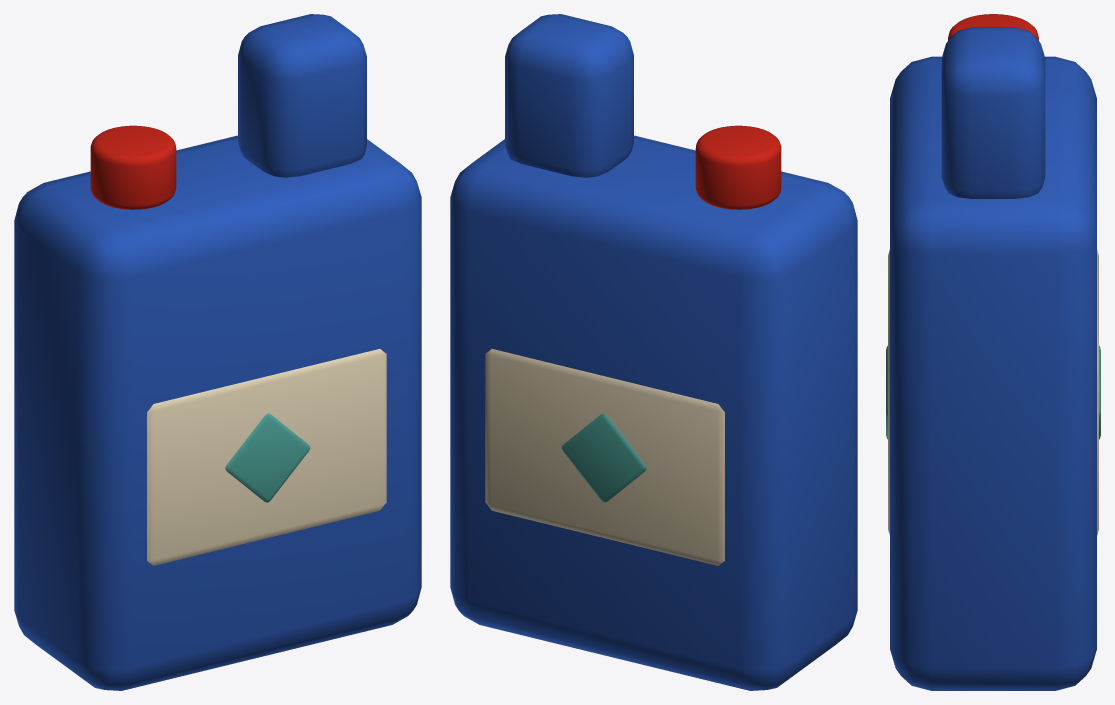
Rendered from antifreeze.glb.
3 renders of one model, left to right at view 1: azimuth 30°, elevation 25°; view 2: azimuth 150°, elevation 25°; view 3: azimuth 270°, elevation 25°, orthographic. The views are drawn at different scales.
Visible parts, largest first — view 1: antifreeze; view 2: antifreeze; view 3: antifreeze.
Part boxes in pixels (box(x1,y1,x2,y2)): antifreeze: box(14, 14, 421, 690); antifreeze: box(450, 14, 857, 690); antifreeze: box(886, 14, 1100, 690).
Bounding box in the file's own units: 0.2 × 0.33 × 0.104.
